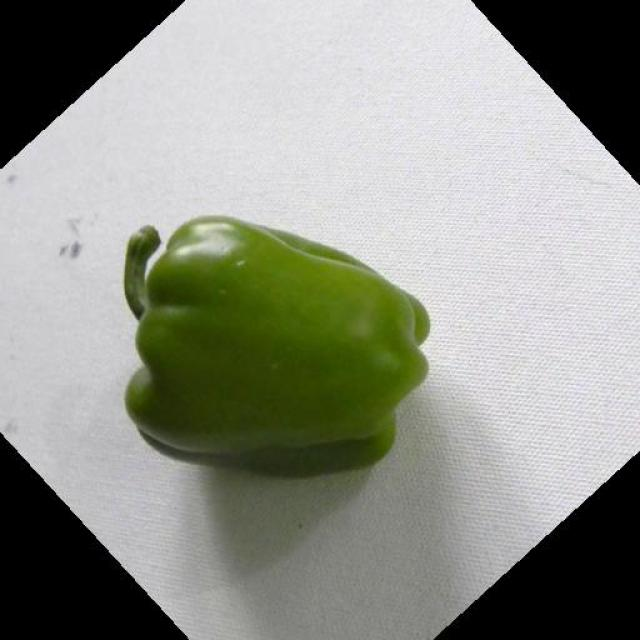Fresh_Capsicum: (113, 217, 458, 495)
